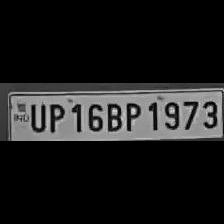1: (64, 99, 84, 133), (142, 98, 160, 132)
3: (198, 97, 218, 129)
6: (84, 100, 104, 132)
7: (180, 96, 198, 130)
9: (160, 98, 180, 130)
B: (102, 98, 122, 132)
P: (45, 100, 65, 134), (122, 98, 142, 132)
U: (27, 100, 46, 132)
